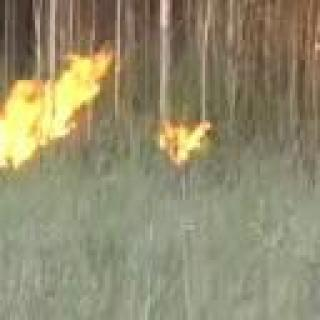fire: (0, 42, 109, 173), (156, 123, 217, 169)
